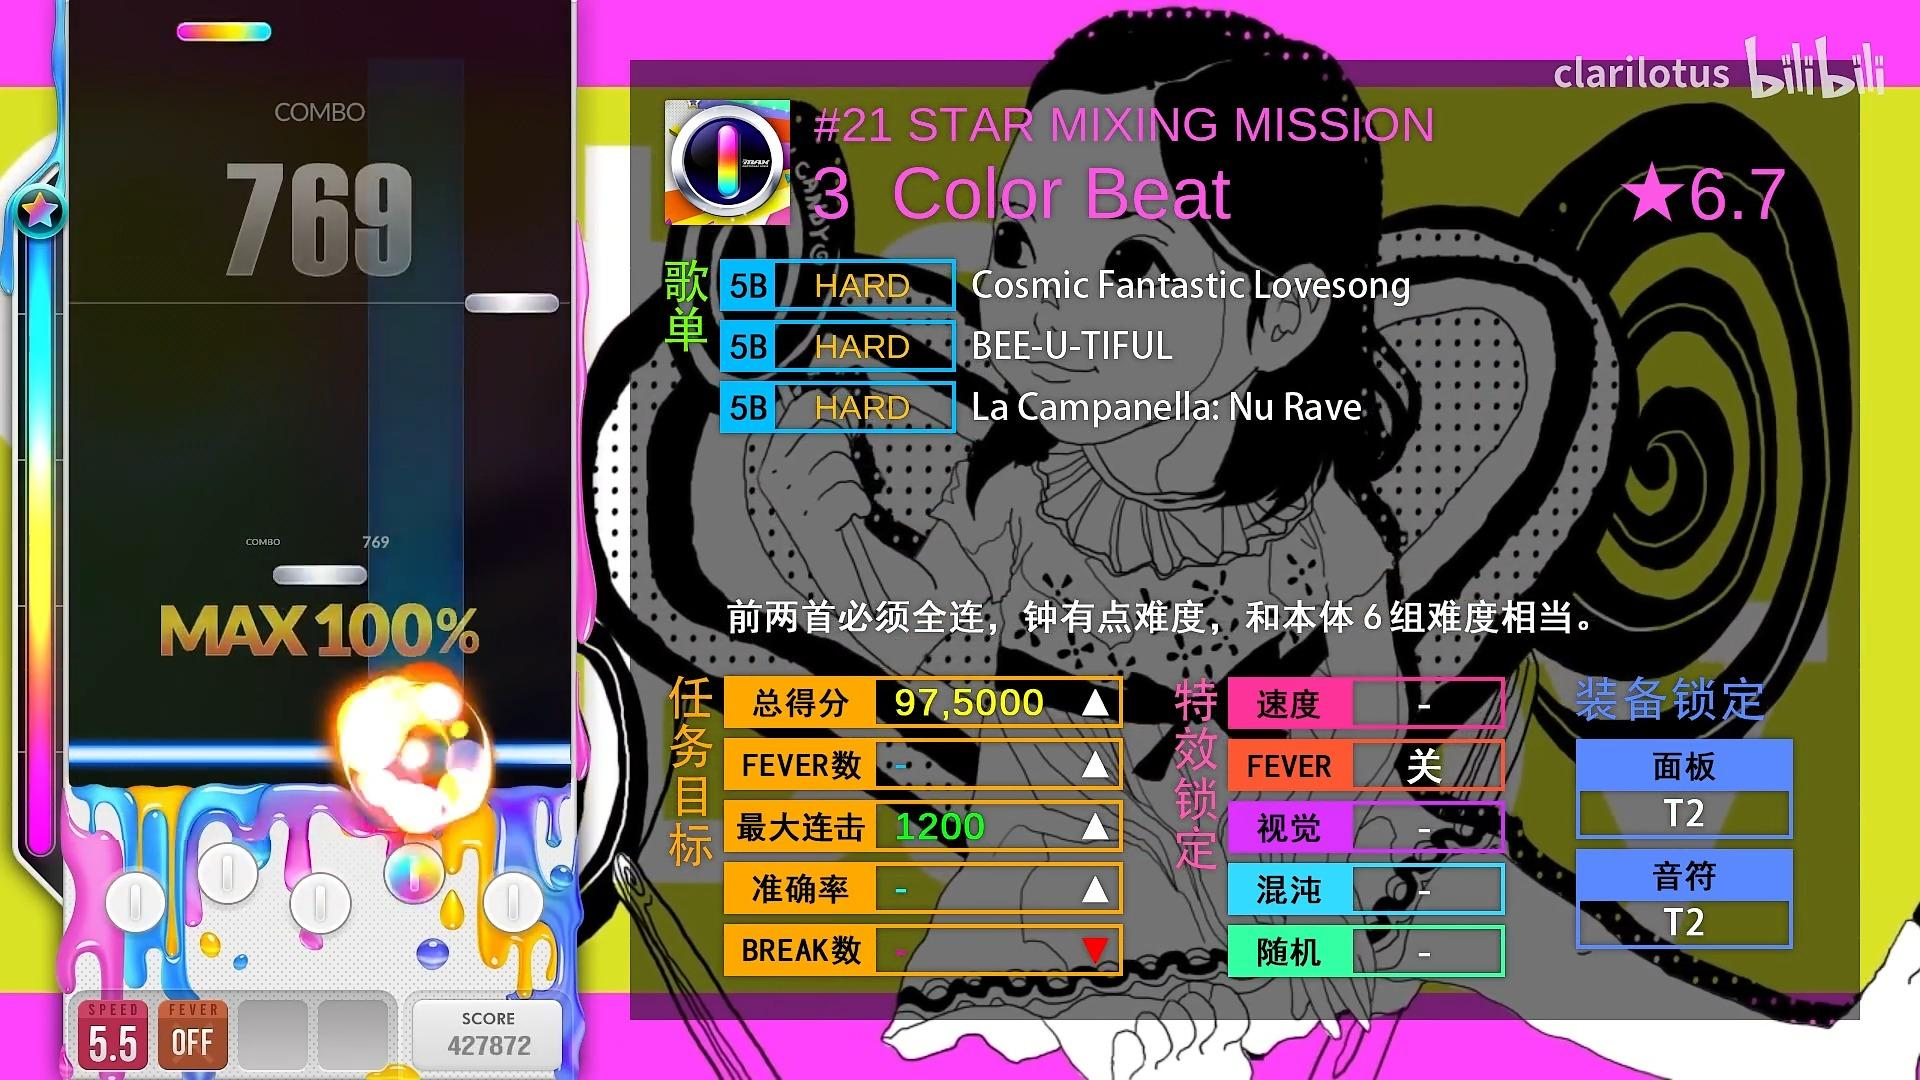note: (464, 291, 559, 314), (177, 21, 272, 41), (273, 566, 368, 585)
